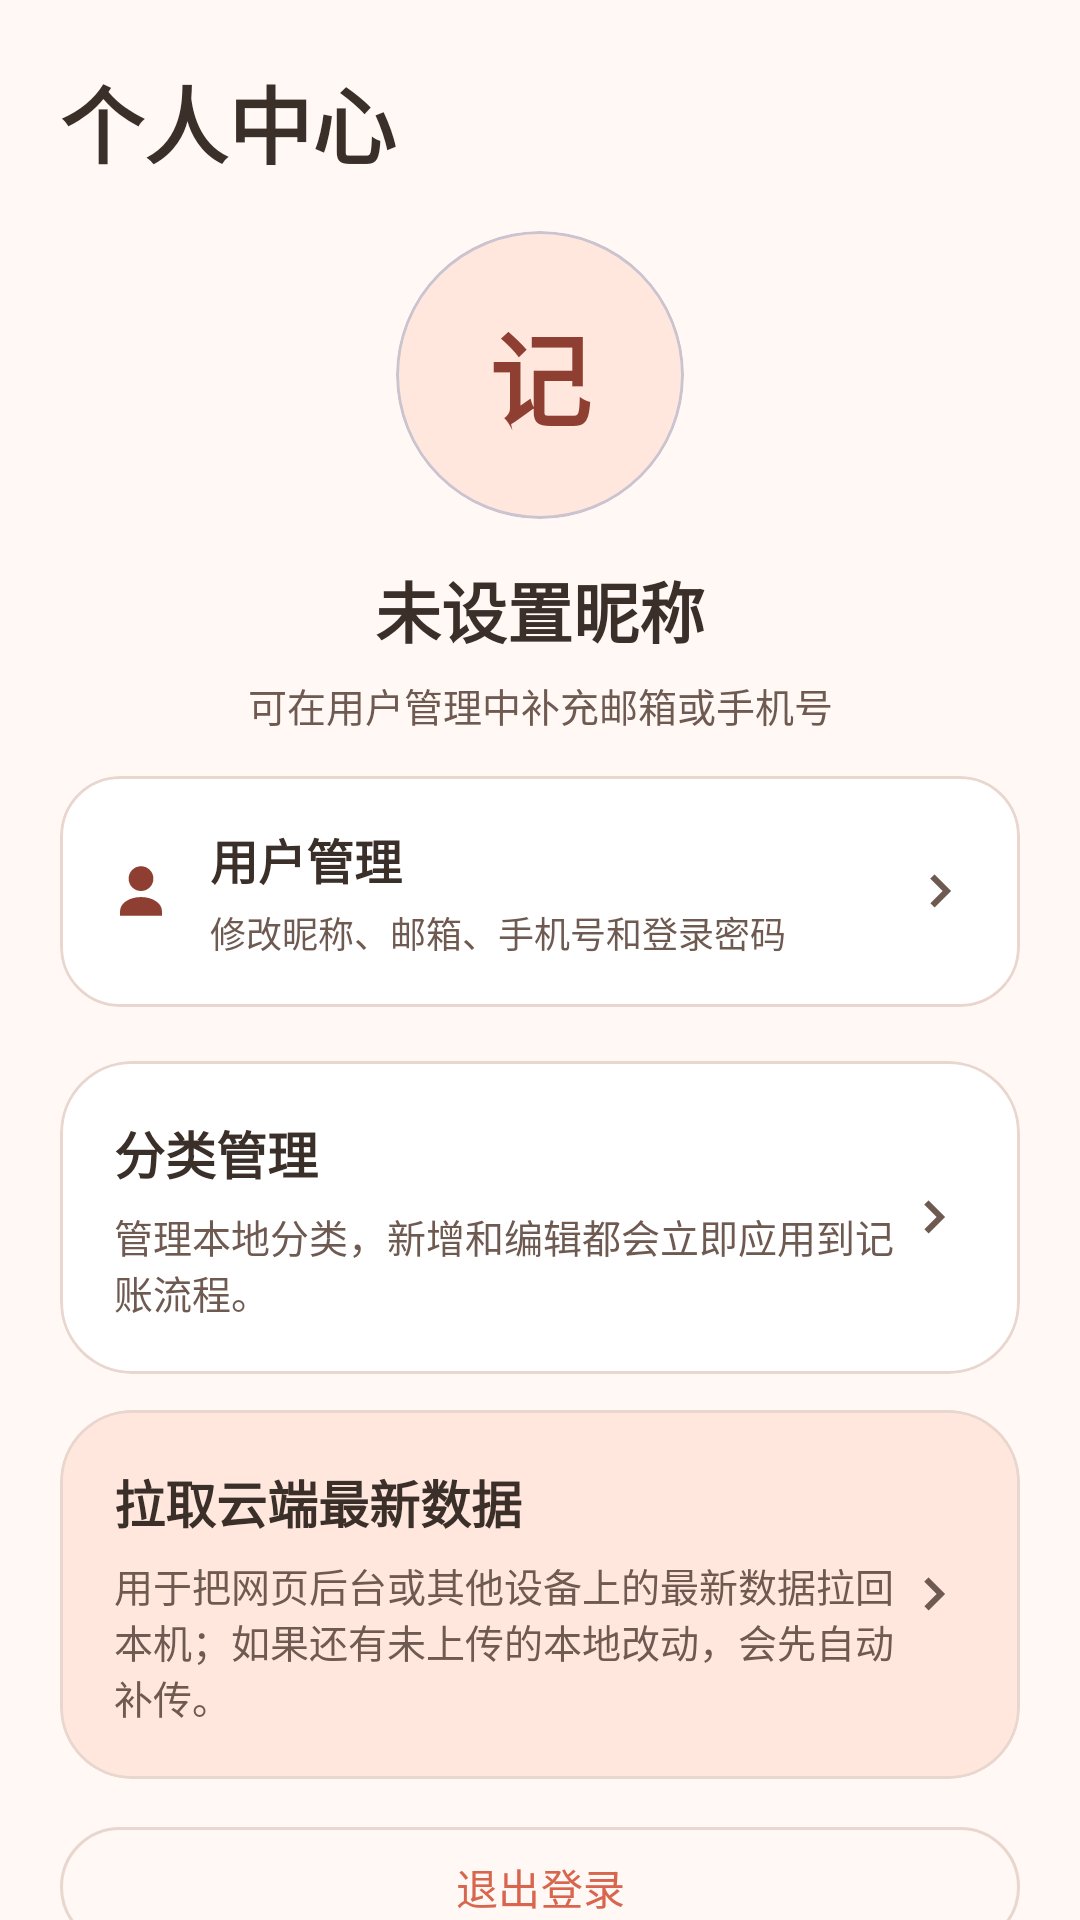

Screen size 1080*1920. Icon name, then its box in pixels as Rect(x1, y1, x2, y2):
chevron right: Rect(930, 874, 951, 908), Rect(924, 1200, 945, 1234), Rect(924, 1577, 945, 1611)
profile: Rect(120, 866, 162, 916)
